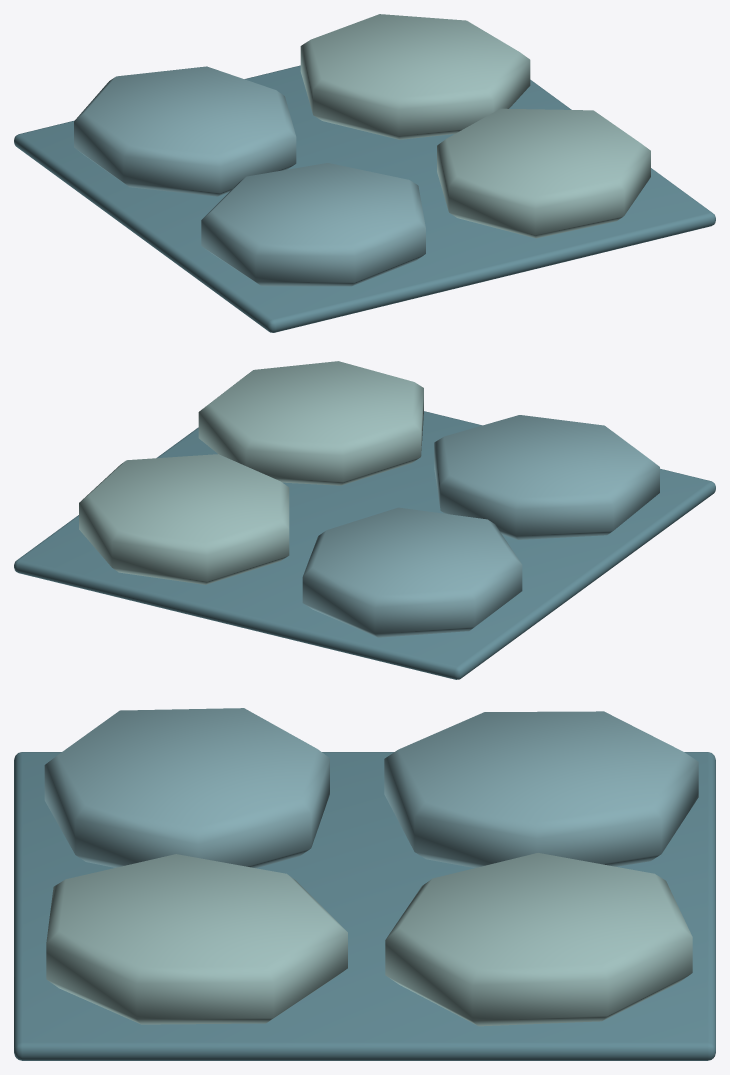
Rendered from hotelFloorTile.glb.
The picture shows the model from 3 angles, top to bottom: view 1: azimuth 30°, elevation 25°; view 2: azimuth 150°, elevation 25°; view 3: azimuth 270°, elevation 25°; orthographic projection. The views are drawn at different scales.
Parts seen in each view (by area): view 1: hotelFloorTile Bellmare blue-gray paver, hotelFloorTile Bellmare mist paver, hotelFloorTile Bellmare cool sea-glass grout; view 2: hotelFloorTile Bellmare blue-gray paver, hotelFloorTile Bellmare mist paver, hotelFloorTile Bellmare cool sea-glass grout; view 3: hotelFloorTile Bellmare mist paver, hotelFloorTile Bellmare blue-gray paver, hotelFloorTile Bellmare cool sea-glass grout.
Boxes of the visible parts, bbox=[...] form: hotelFloorTile Bellmare blue-gray paver: bbox=[74, 66, 425, 286]; hotelFloorTile Bellmare mist paver: bbox=[300, 14, 650, 238]; hotelFloorTile Bellmare cool sea-glass grout: bbox=[14, 65, 715, 332]; hotelFloorTile Bellmare blue-gray paver: bbox=[302, 415, 659, 637]; hotelFloorTile Bellmare mist paver: bbox=[79, 361, 423, 584]; hotelFloorTile Bellmare cool sea-glass grout: bbox=[14, 411, 715, 679]; hotelFloorTile Bellmare mist paver: bbox=[46, 853, 692, 1026]; hotelFloorTile Bellmare blue-gray paver: bbox=[44, 708, 698, 868]; hotelFloorTile Bellmare cool sea-glass grout: bbox=[14, 752, 715, 1060].
Bounding box in the file's own units: 0.5 × 0.06 × 0.5.
